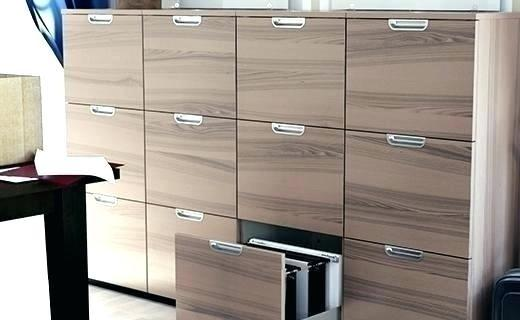cabinet_door: (343, 19, 474, 136), (343, 137, 470, 248), (242, 17, 349, 125), (239, 122, 348, 210), (343, 247, 472, 320), (141, 17, 234, 115), (145, 115, 240, 209), (175, 242, 284, 320), (153, 212, 235, 302), (67, 16, 145, 104), (71, 196, 148, 282), (71, 109, 146, 195)
handle: (383, 246, 426, 262), (385, 135, 428, 149), (209, 241, 246, 257), (388, 18, 430, 31), (270, 123, 309, 136), (271, 17, 308, 29), (173, 114, 206, 127), (174, 210, 205, 221), (171, 16, 203, 26), (94, 194, 116, 205), (88, 14, 112, 24), (90, 107, 117, 115)
